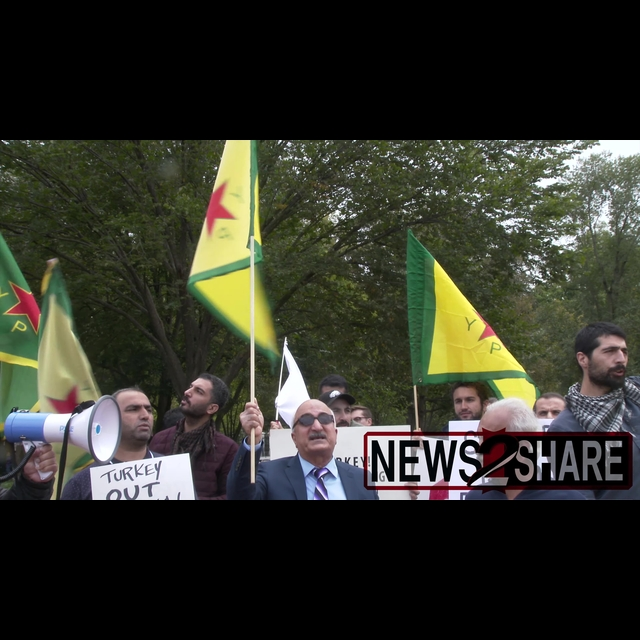YPG: (403, 229, 515, 383)
